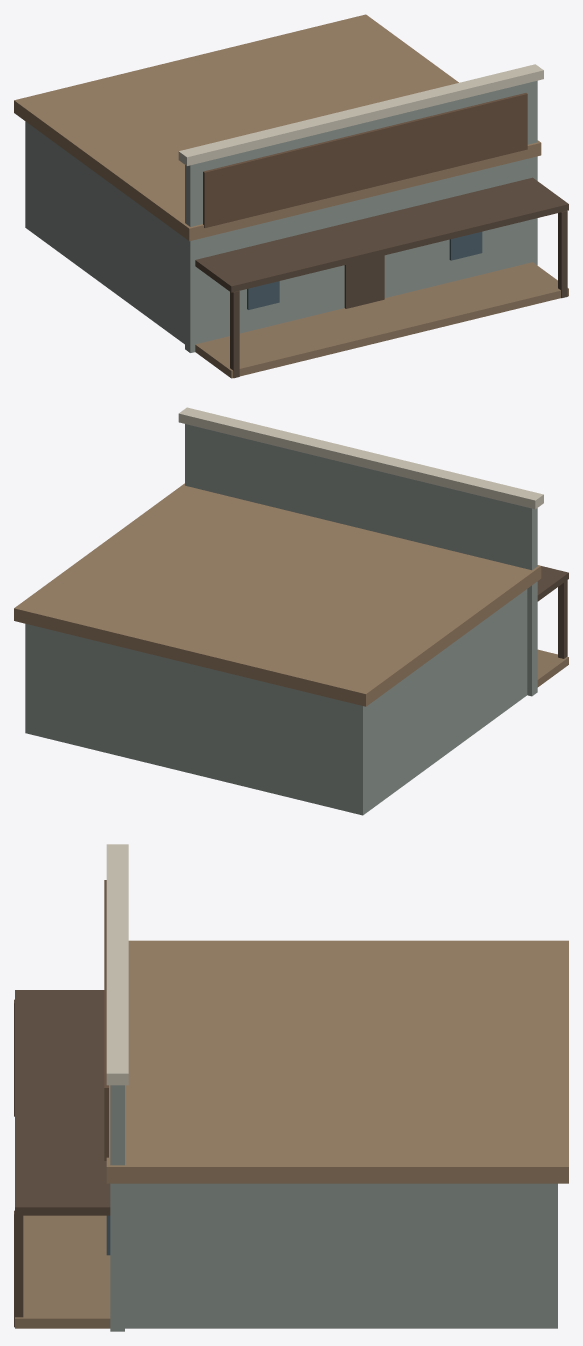
Rendered from w_store.glb.
3 renders of one model, top to bottom at view 1: azimuth 30°, elevation 25°; view 2: azimuth 150°, elevation 25°; view 3: azimuth 270°, elevation 25°, orthographic. The views are drawn at different scales.
Parts seen in each view (by area): view 1: koerper; view 2: koerper; view 3: koerper.
Part boxes in pixels (x1,y1,x2,y2): koerper: (14,14,568,378); koerper: (14,407,568,815); koerper: (14,844,568,1331).
Size of the model in its own units: 14.8 by 7.85 by 15.12.
